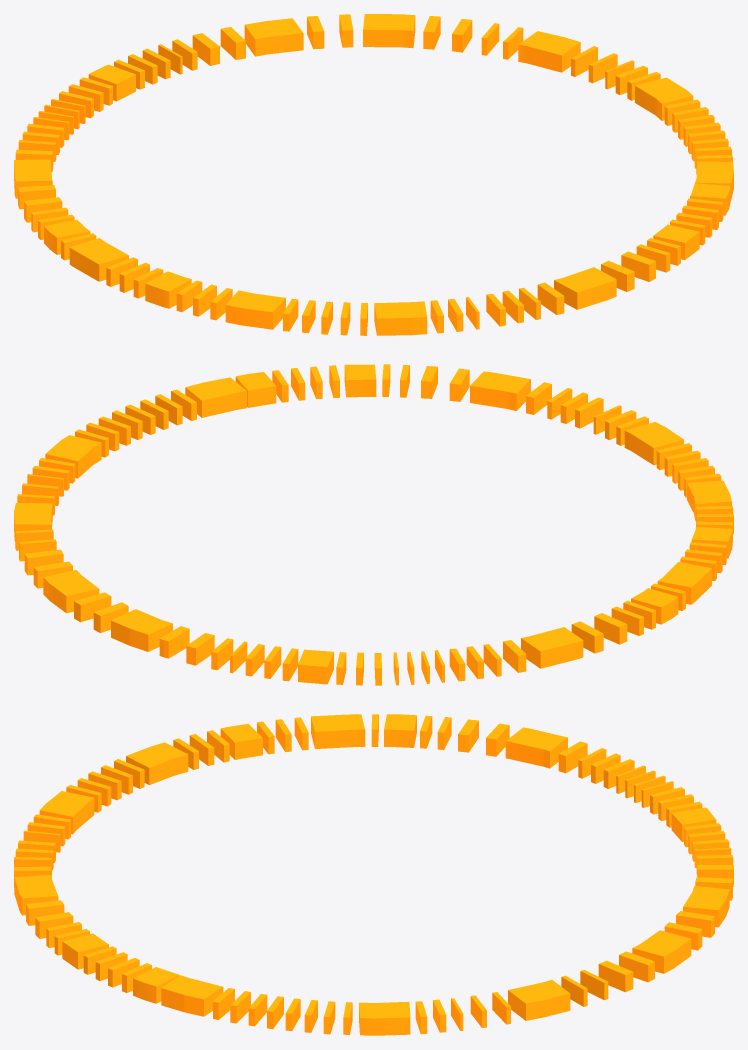
File: Arc Animation V004B (rotation only) - Outer - Glow.glb
3 views of the same model, one above another, from view 1: azimuth 30°, elevation 25°; view 2: azimuth 150°, elevation 25°; view 3: azimuth 270°, elevation 25° (orthographic).
Visible parts, largest first — view 1: Arc_Outer_Ring; view 2: Arc_Outer_Ring; view 3: Arc_Outer_Ring.
Boxes of the visible parts, x1,y1,x2,y2 form: Arc_Outer_Ring: (14, 14, 733, 335); Arc_Outer_Ring: (14, 364, 733, 685); Arc_Outer_Ring: (14, 714, 733, 1035).
Bounding box in the file's own units: 19.25 × 0.5098 × 19.24.
